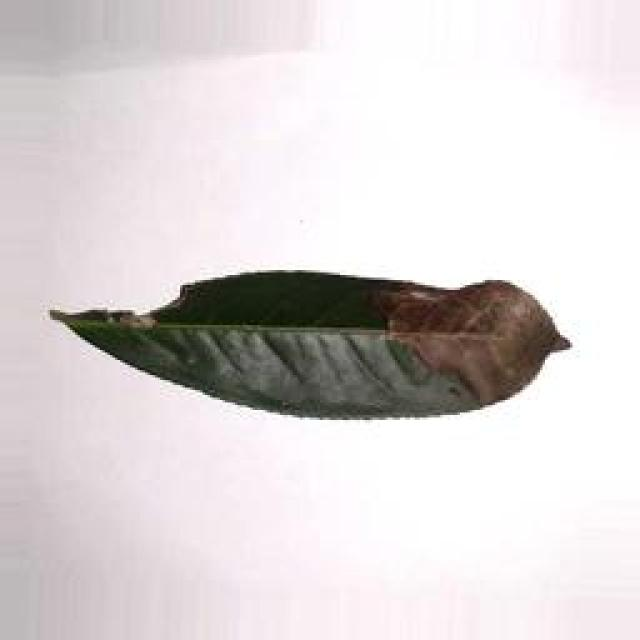Brown Blight: (28, 249, 582, 442)
